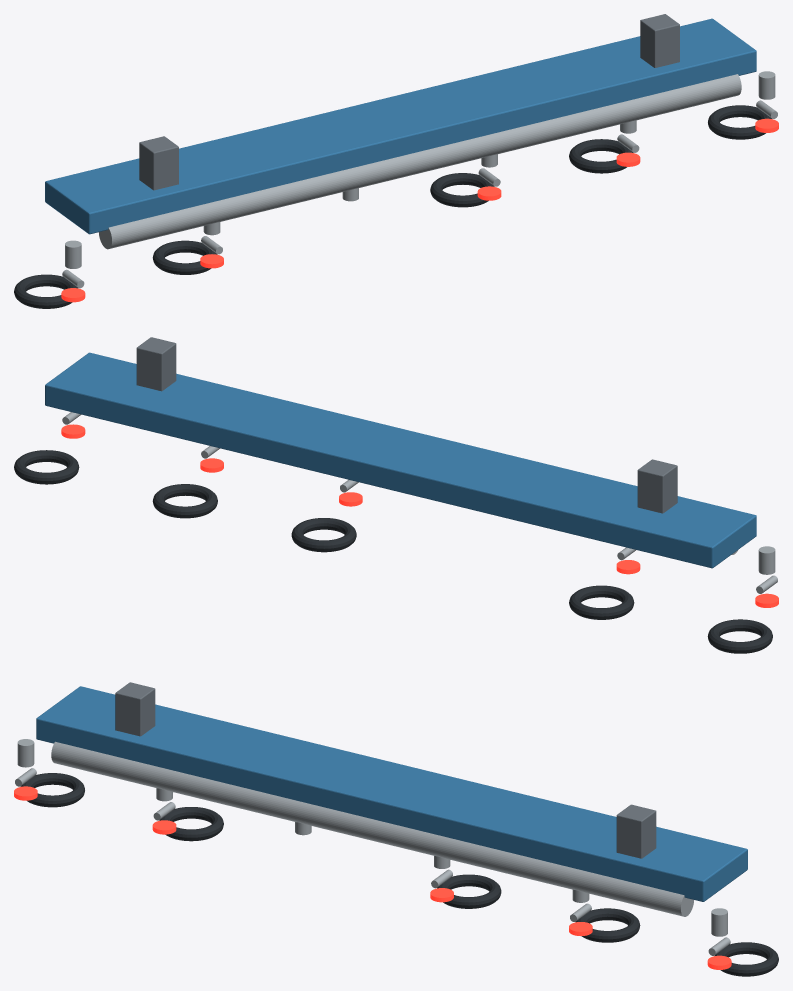
Rendered from dive_fillstation_manifold_bank.glb.
3 views of the same model, one above another, from view 1: azimuth 30°, elevation 25°; view 2: azimuth 150°, elevation 25°; view 3: azimuth 330°, elevation 25° (orthographic).
Visible parts, largest first — view 1: panel, rail, bracket_a, bracket_b, coil4, coil1, coil5, coil0, coil3; view 2: panel, bracket_a, bracket_b, coil0, coil5, coil1, coil3, coil4; view 3: panel, rail, bracket_a, bracket_b, coil5, coil4, coil3, coil1, coil0.
Boxes of the visible parts, box(x1,y1,x2,y2) form: panel: box(45, 18, 756, 234); rail: box(99, 74, 741, 249); bracket_a: box(139, 136, 178, 190); bracket_b: box(640, 14, 679, 67); coil4: box(569, 139, 633, 173); coil1: box(152, 240, 217, 274); coil5: box(708, 105, 771, 139); coil0: box(14, 274, 78, 308); coil3: box(430, 173, 494, 207); panel: box(45, 352, 756, 568); bracket_a: box(637, 459, 677, 513); bracket_b: box(136, 337, 176, 391); coil0: box(707, 619, 772, 653); coil5: box(14, 450, 79, 484); coil1: box(569, 585, 634, 619); coil3: box(291, 518, 356, 552); coil4: box(152, 484, 217, 518); panel: box(36, 686, 747, 901); rail: box(51, 741, 693, 916); bracket_a: box(115, 682, 155, 736); bracket_b: box(616, 804, 656, 858); coil5: box(714, 942, 778, 976); coil4: box(576, 908, 640, 942); coil3: box(437, 874, 501, 908); coil1: box(159, 807, 223, 841); coil0: box(20, 773, 84, 807).
Bounding box in the file's own units: 2.92 × 0.52 × 0.34.
